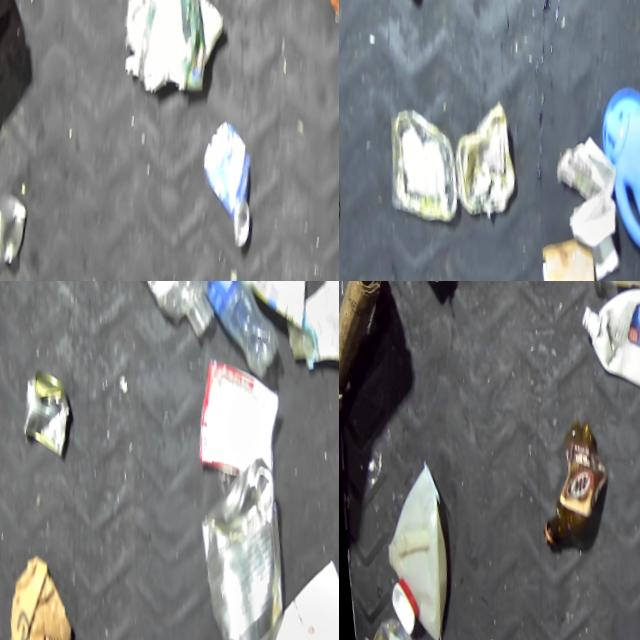can: (179, 458, 293, 640), (10, 361, 69, 456)
milk_jug: (362, 451, 452, 640)
non_white_jug: (572, 78, 640, 281)
plastic_bottle: (176, 281, 286, 370)
